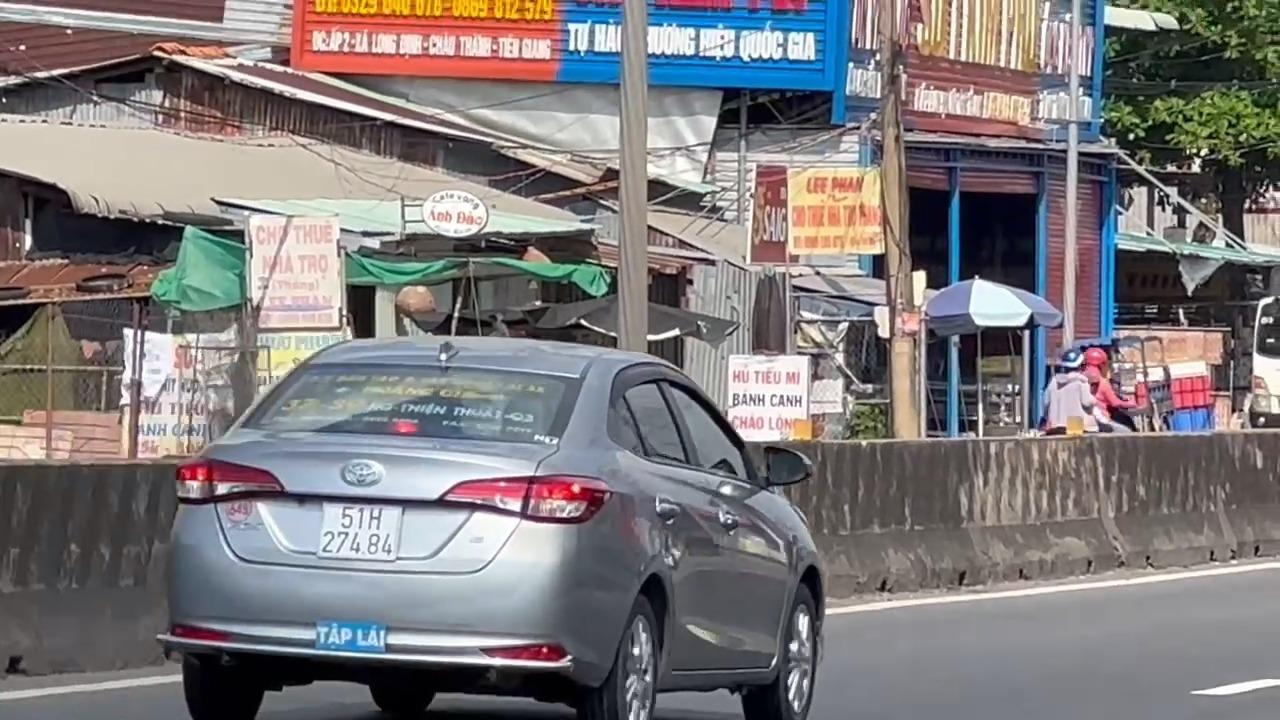bien_so: (315, 500, 402, 562)
